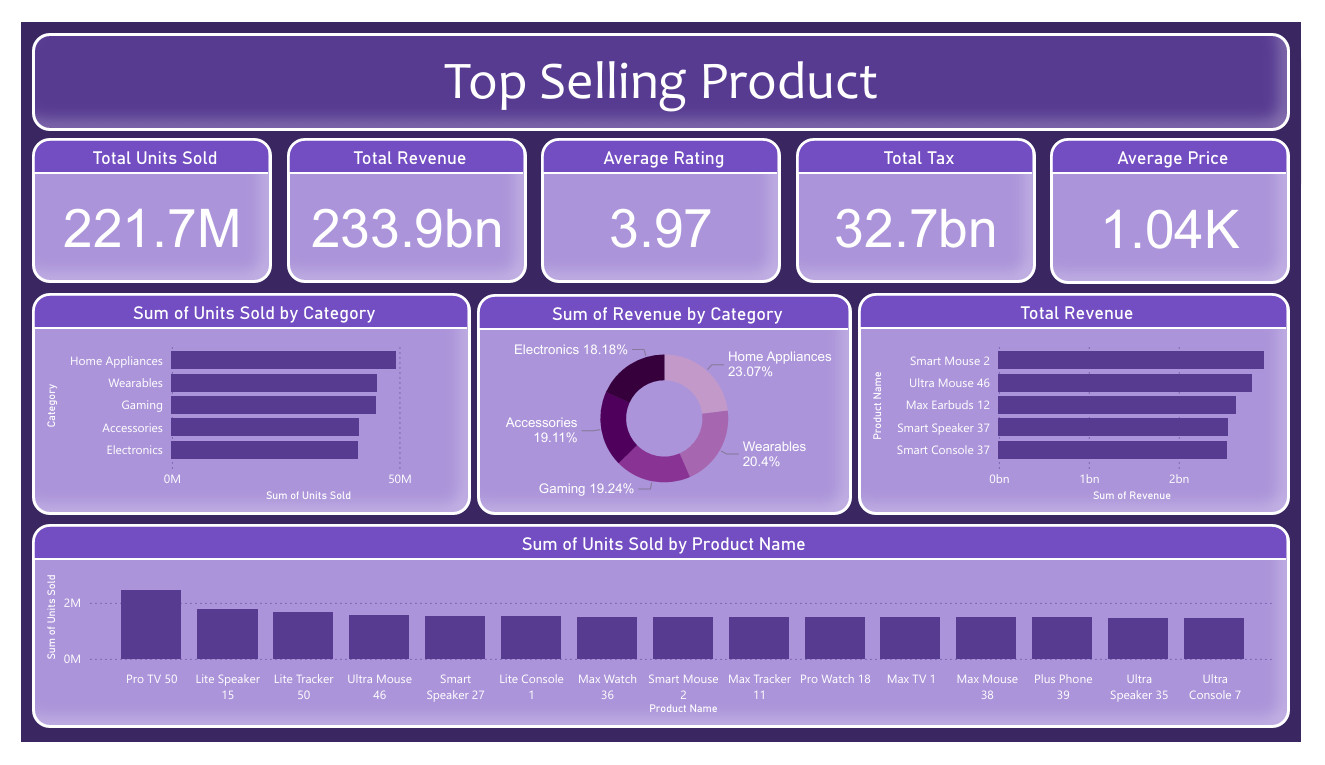

The page's visual inventory and layout, read from the dashboard file:
{"tool":"powerbi","page":{"name":"Page 1","canvas":[1280,720],"ordinal":0},"visuals":[{"type":"card","title":"Total Units Sold","fields":{"Values":["Top_Selling_Products.TotalUnitsSold"]},"box":[10,115.5,240,144.5],"z":0},{"type":"card","title":"Total Revenue","fields":{"Values":["Top_Selling_Products.TotalRevenue"]},"box":[264.5,115,240,145],"z":1000},{"type":"card","title":"Average Rating","fields":{"Values":["Top_Selling_Products.AvgRating"]},"box":[519,115,240,145],"z":2000},{"type":"card","title":"Total Tax","fields":{"Values":["Top_Selling_Products.TotalTax"]},"box":[773.5,115,240,145],"z":3000},{"type":"card","title":"Average Price","fields":{"Values":["Top_Selling_Products.AvgPrice"]},"box":[1028.2,115.5,240,145.5],"z":4000},{"type":"clusteredBarChart","title":"Total Revenue","fields":{"Category":["Top_Selling_Products.Product Name"],"Y":["Sum(Top_Selling_Products.Revenue)"]},"box":[836.4,270,431.8,221.8],"z":5000},{"type":"clusteredColumnChart","fields":{"Y":["Sum(Top_Selling_Products.Units Sold)"],"Category":["Top_Selling_Products.Product Name"]},"box":[10,500.9,1258.2,204.5],"z":6000},{"type":"donutChart","fields":{"Category":["Top_Selling_Products.Category"],"Y":["Sum(Top_Selling_Products.Revenue)"]},"box":[455.5,270.9,374.5,220.9],"z":7000},{"type":"clusteredBarChart","fields":{"Category":["Top_Selling_Products.Category"],"Y":["Sum(Top_Selling_Products.Units Sold)"]},"box":[10,270,439.1,221.8],"z":8000},{"type":"textbox","box":[10,10,1257.8,97.8],"z":9000}]}

Visuals, with their boxes in screenshot pixels (x1, y1, x2, y2), scaled from the page's 1280x720 canvas onto the 1325x765 screenshot:
"Total Units Sold" card: crop(10, 123, 259, 276)
"Total Revenue" card: crop(274, 122, 522, 276)
"Average Rating" card: crop(537, 122, 786, 276)
"Total Tax" card: crop(801, 122, 1049, 276)
"Average Price" card: crop(1064, 123, 1313, 277)
"Total Revenue" clusteredBarChart: crop(866, 287, 1313, 523)
clusteredColumnChart - Sum(Top_Selling_Products.Units Sold) x Top_Selling_Products.Product Name: crop(10, 532, 1313, 749)
donutChart - Top_Selling_Products.Category x Sum(Top_Selling_Products.Revenue): crop(472, 288, 859, 523)
clusteredBarChart - Top_Selling_Products.Category x Sum(Top_Selling_Products.Units Sold): crop(10, 287, 465, 523)
textbox: crop(10, 11, 1312, 115)
